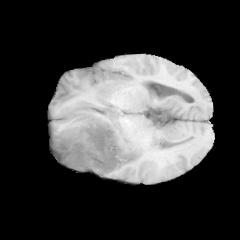glioma: (56, 114, 128, 176)
